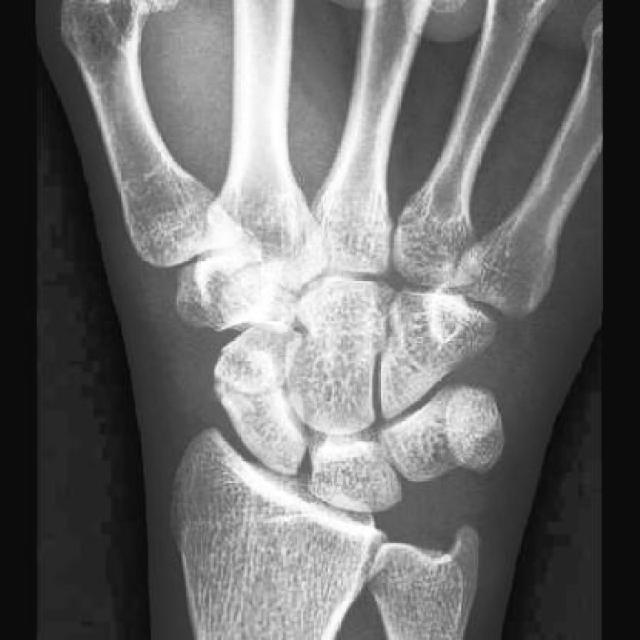Fracture: (212, 363, 303, 405)
